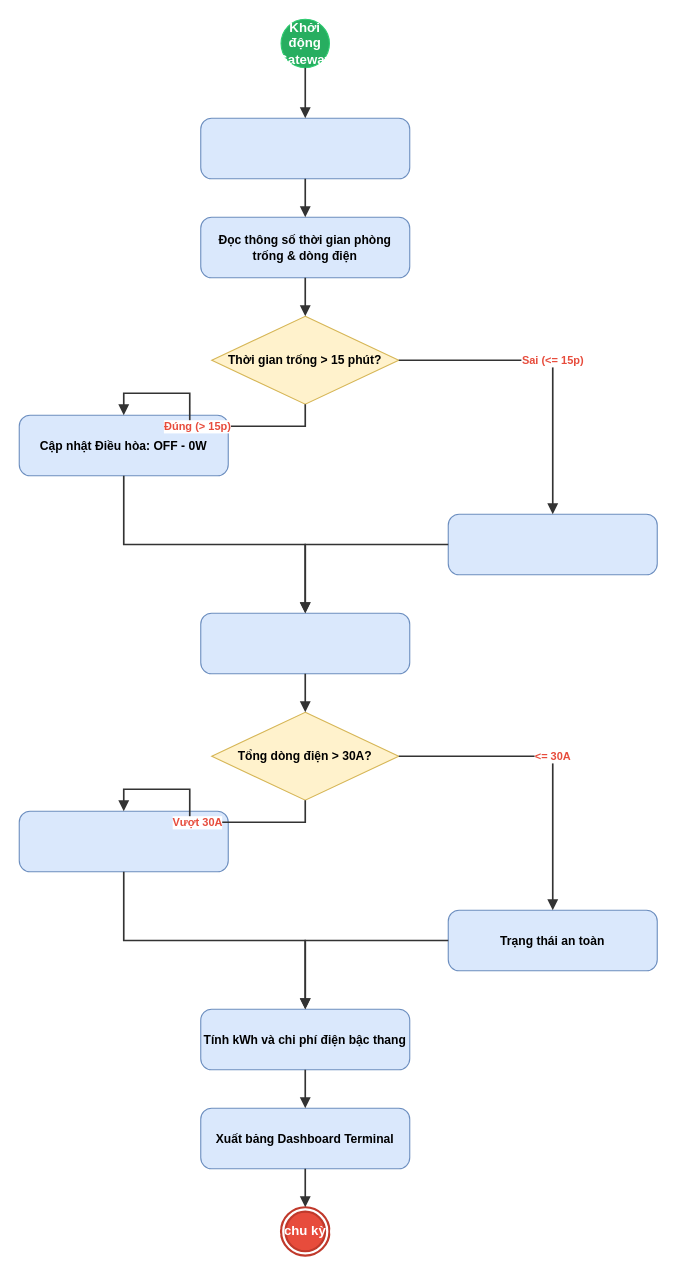
This 677x1276 diagram has some shape labels left out. Each missing label, with the centre of its shape:
"Bật cảnh báo quá tải nguy hiểm" goes at [123,841].
"Giữ nguyên trạng thái thiết bị" goes at [552,544].
"Khởi tạo struct SmartDevice & EnergySensor" goes at [305,148].
"Tổng hợp công suất & Dòng điện Amper" goes at [305,643].
